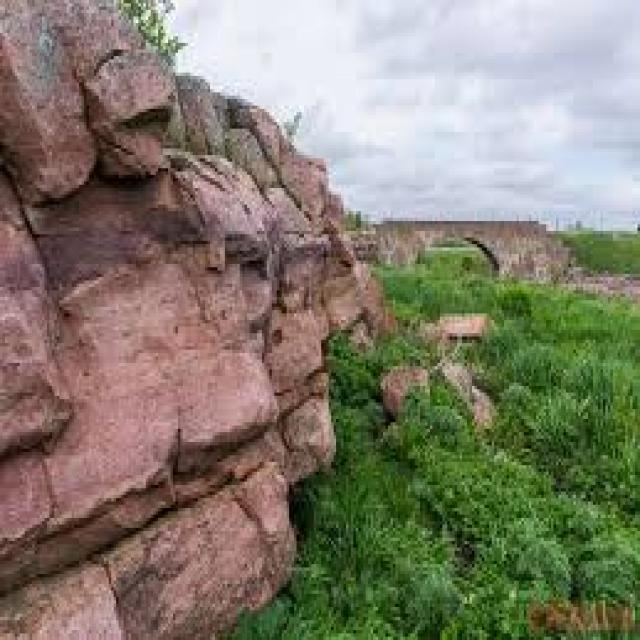Metamorphic: (2, 3, 366, 640)
